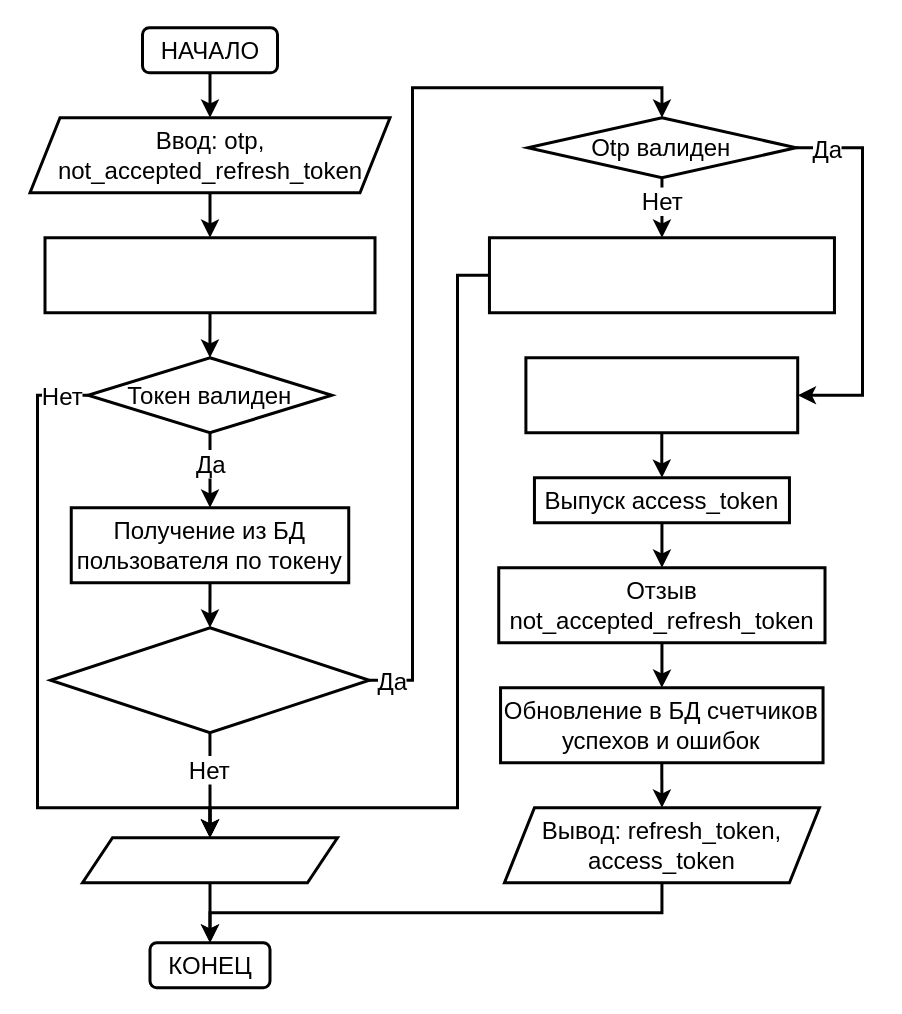
Image size: 902x1014. Some labels were removed from this diagram. The box of each missing label's shape, as (x1, y1, x2, y2) in pixels:
Вывод: ошибка: (80, 836, 338, 884)
Выпуск и вставка в БД refresh_token: (524, 356, 798, 434)
Обновление в БД счетчика ошибок и времени последней: (487, 236, 835, 314)
Получение из БД токена по not_accepted_refresh_token: (43, 236, 376, 314)
Пользователь валиден: (48, 626, 370, 734)
